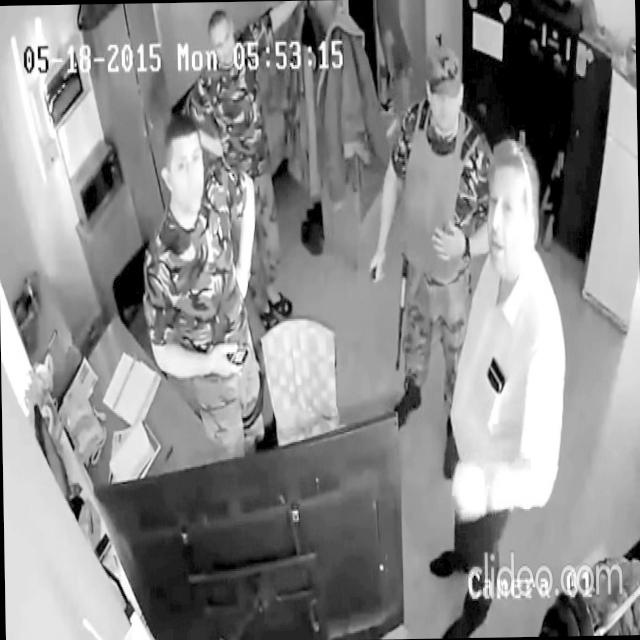gun: (533, 102, 574, 255), (392, 248, 413, 376)
person: (420, 135, 570, 638), (140, 110, 266, 458), (180, 1, 306, 330)
person with a gun: (365, 43, 500, 486)
